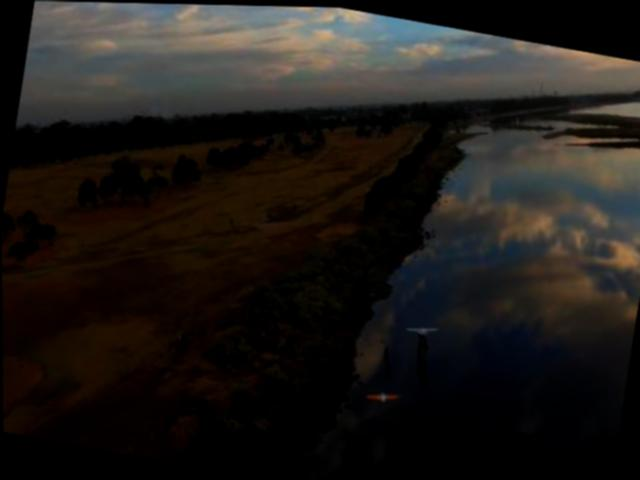uav: (403, 318, 440, 339), (362, 383, 399, 403)
